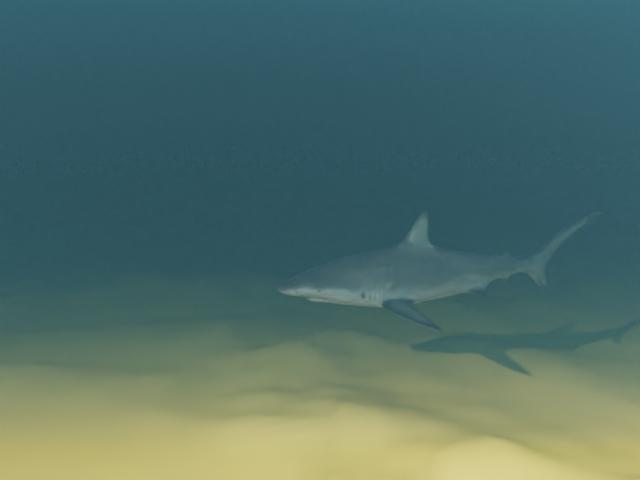Carribean Shark.001: (277, 210, 602, 331)
